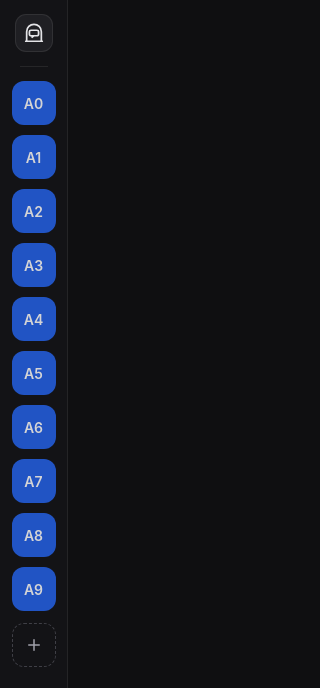
Test case: Rail tooltips › only the first nine tiles show a Ctrl shortcut
Hover over the button named "Acc 9": (34, 589) [12,567,56,611]
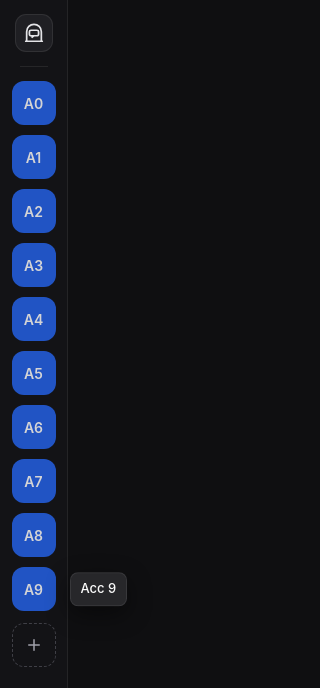
Result: the tooltip reads "Acc 9" at [80,580,116,596]
